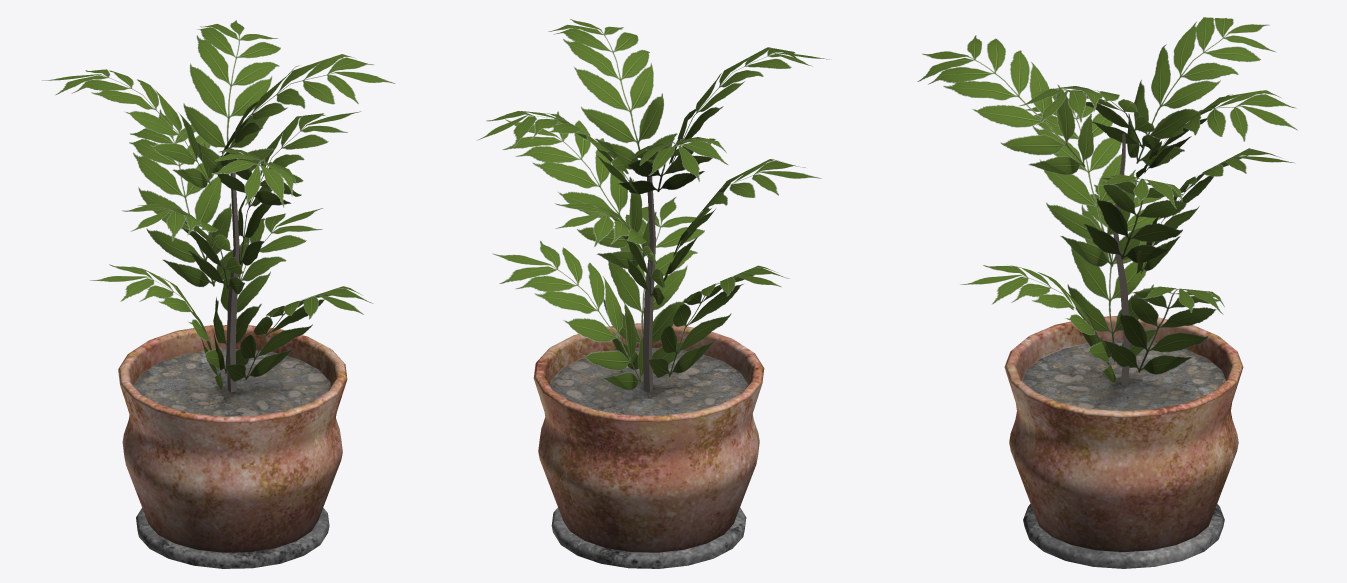
3 views of the same model, side by side, from view 1: azimuth 30°, elevation 25°; view 2: azimuth 150°, elevation 25°; view 3: azimuth 270°, elevation 25° (orthographic). The views are drawn at different scales.
Parts seen in each view (by area): view 1: XOIAL_PlantInVase; view 2: XOIAL_PlantInVase; view 3: XOIAL_PlantInVase.
Part boxes in pixels (x1,y1,x2,y2): XOIAL_PlantInVase: [42, 20, 395, 568]; XOIAL_PlantInVase: [476, 19, 831, 568]; XOIAL_PlantInVase: [917, 17, 1297, 568].
Size of the model in its own units: 0.0444 by 0.0608 by 0.0512.
1 material, 1 textured.
